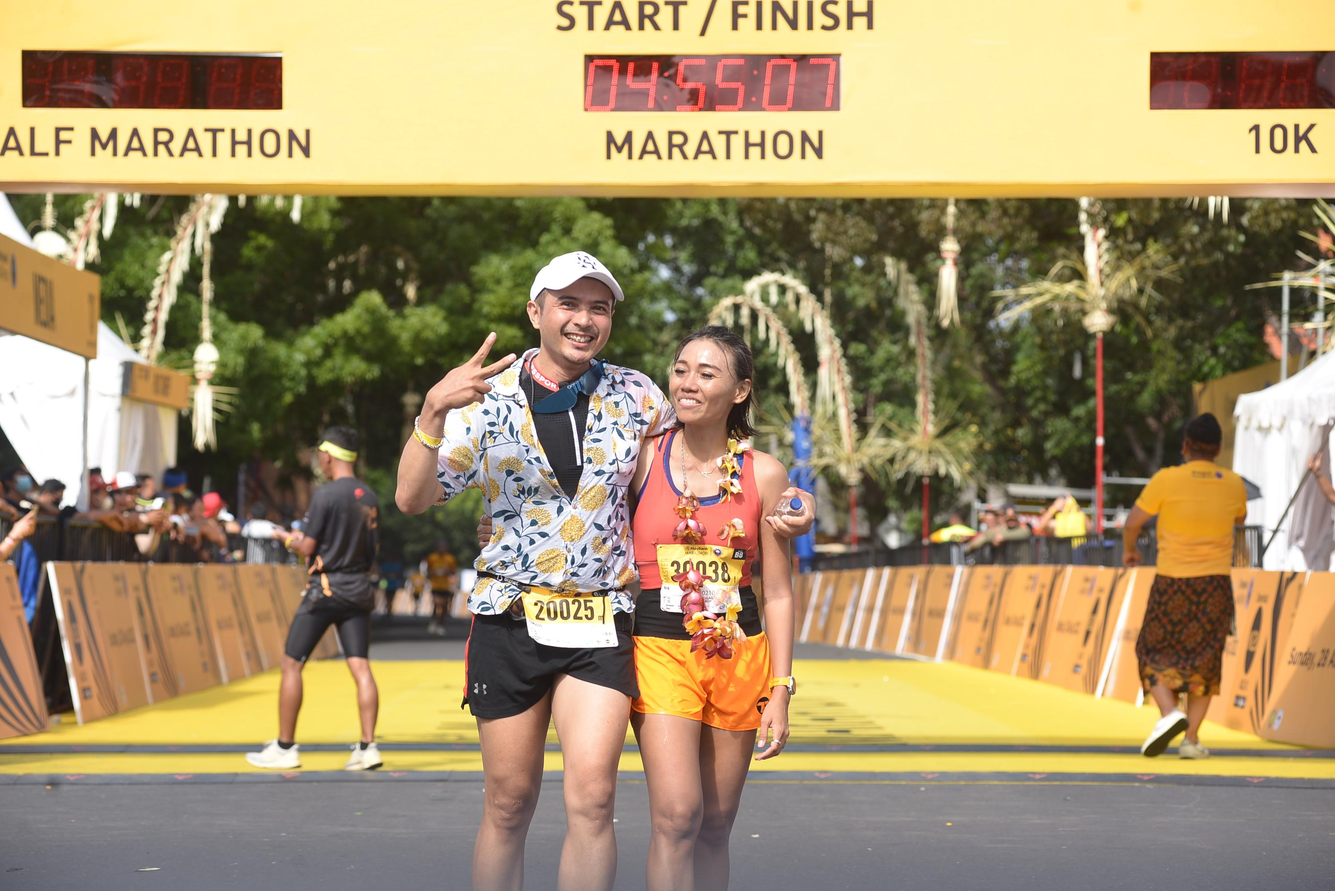bib: (656, 545, 746, 614), (521, 587, 618, 647)
